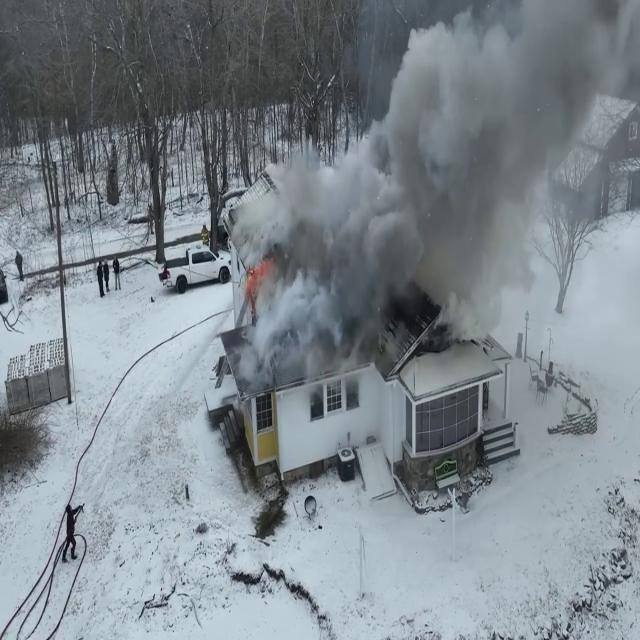Smoke: (229, 1, 631, 384)
